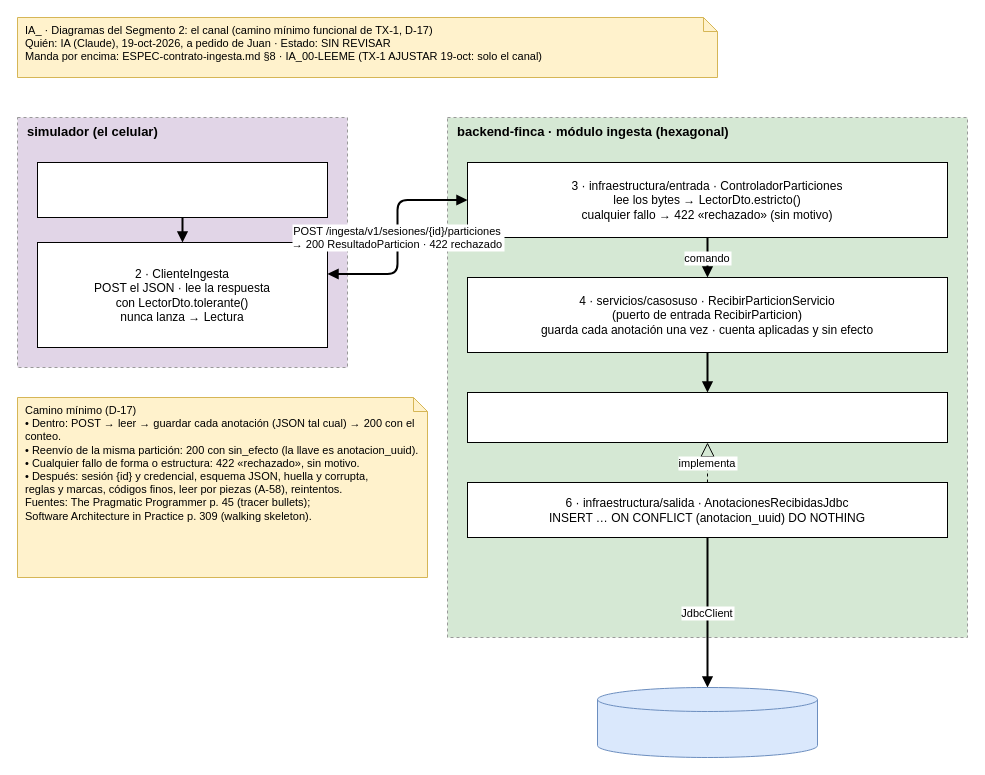
This 985x775 diagram has some shape labels left out. Here are the shapes that lost their labels. From the top down, the centre of each, then its label:
At (x=182, y=190): "1 · simulador sincronizar --url --sesion --archivo".
At (x=707, y=417): "5 · servicios/puertos · AnotacionesRecibidas (interfaz: guardarSiNueva)".
At (x=707, y=722): "PostgreSQL 16 anotacion_recibida (V2, Flyway)".
